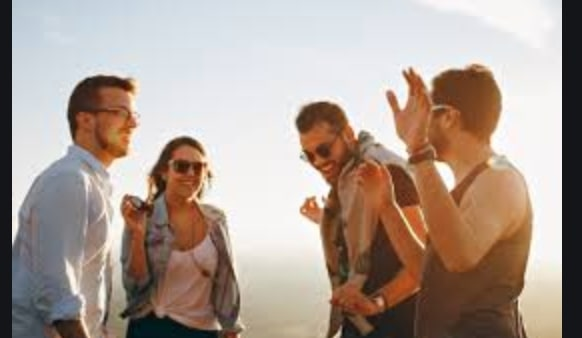Bad: (284, 62, 533, 338), (14, 71, 243, 338)
Caution: (134, 99, 374, 337)
